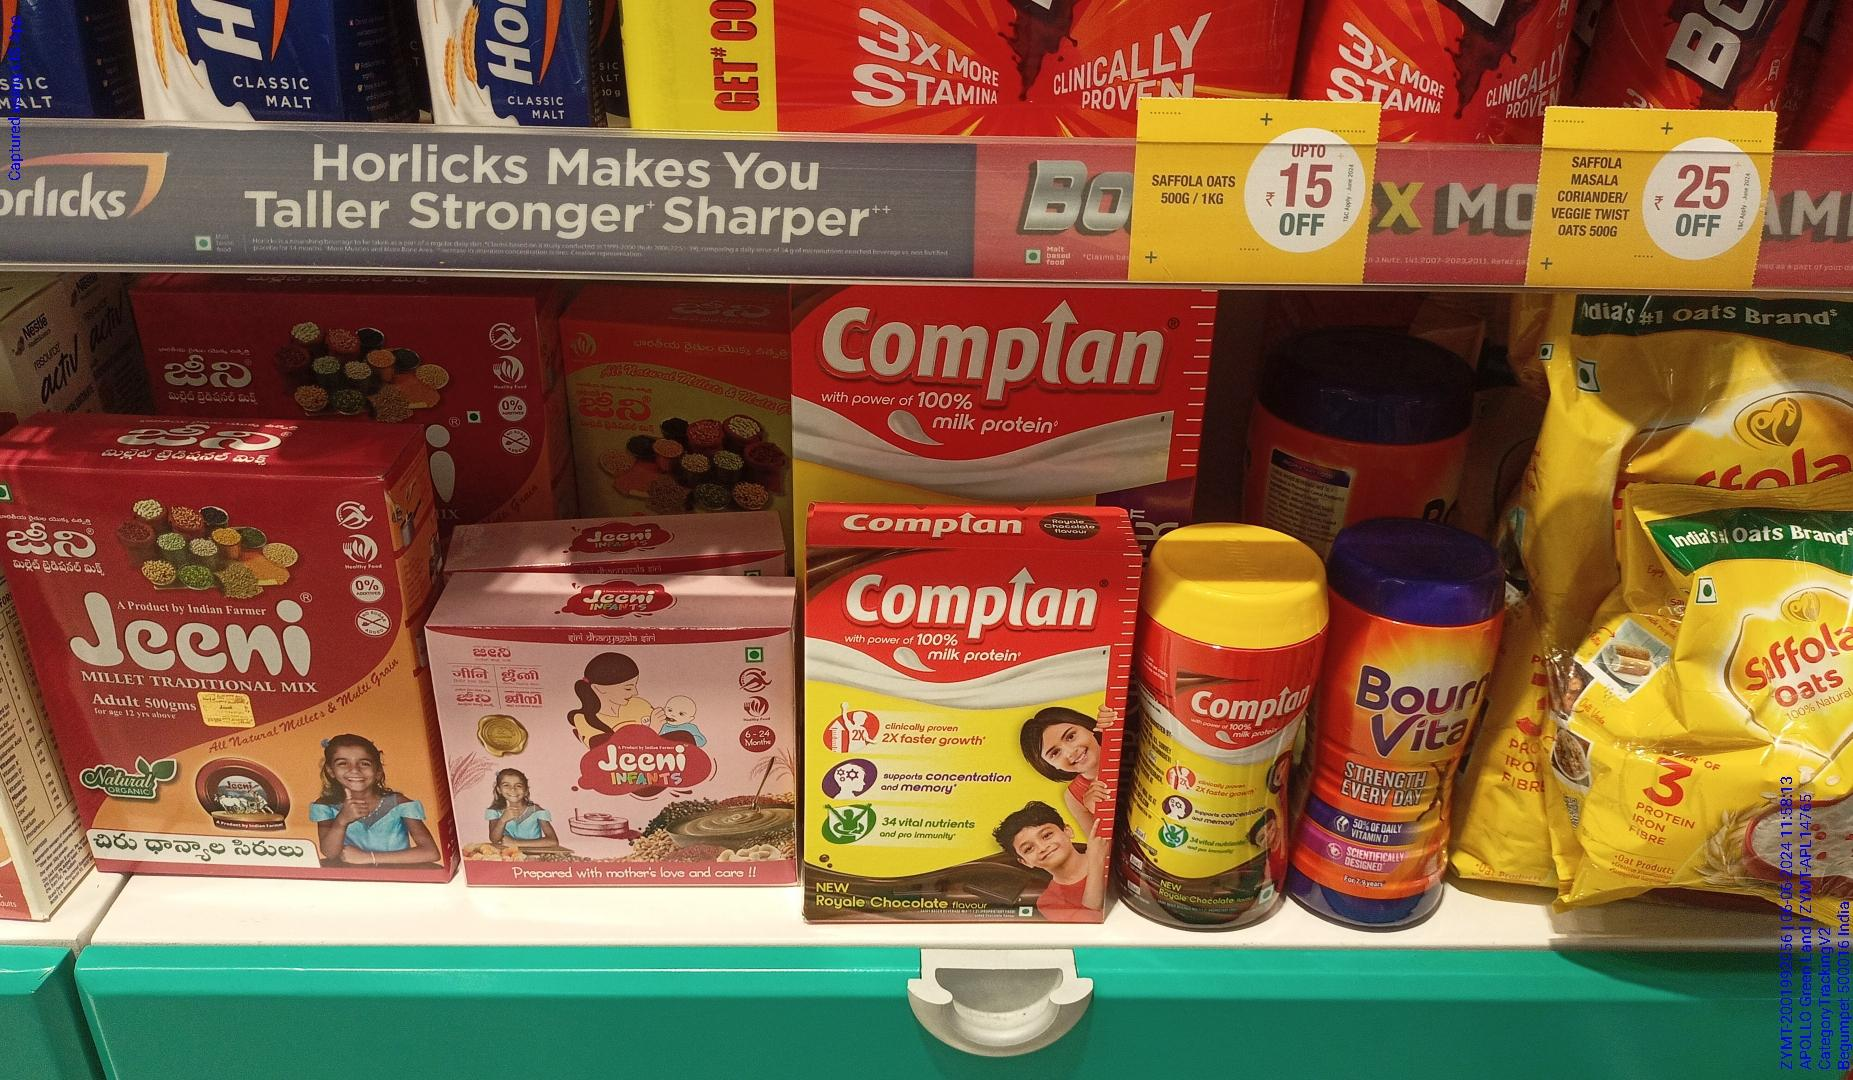BOURN_VITA_200_G_JAR: (1324, 562, 1506, 957)
COMPLAN_CHOCOLATE_200_GMS_JAR: (1160, 566, 1316, 946)
COMPLAN_CHOCOLATE_200_GMS_PACK: (812, 544, 1118, 926)
